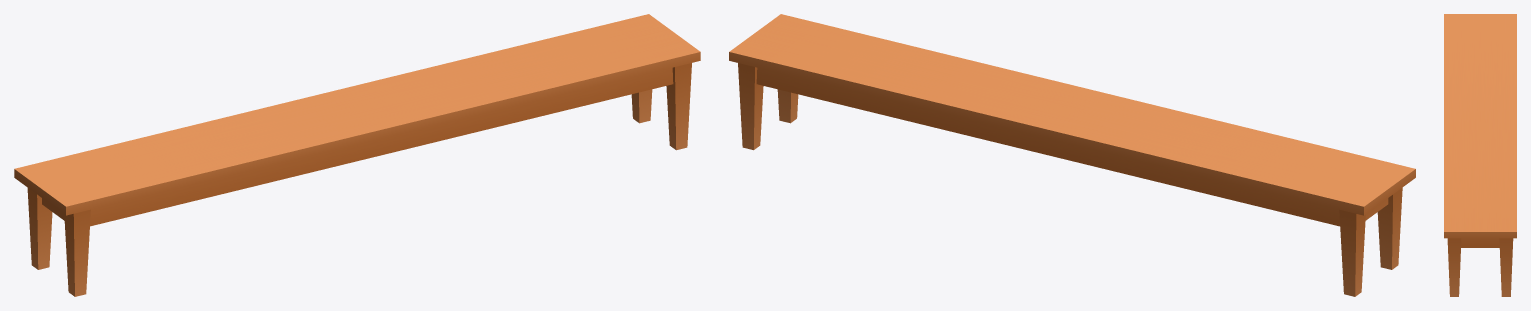
The model's file is Prop_LongTable.fbx.
The picture shows the model from 3 angles, left to right: view 1: azimuth 30°, elevation 25°; view 2: azimuth 150°, elevation 25°; view 3: azimuth 270°, elevation 25°; orthographic projection. The views are drawn at different scales.
Visible parts, largest first — view 1: Prop_LongTable; view 2: Prop_LongTable; view 3: Prop_LongTable.
Part boxes in pixels (x1,y1,x2,y2): Prop_LongTable: [14, 14, 700, 296]; Prop_LongTable: [729, 14, 1415, 296]; Prop_LongTable: [1444, 14, 1516, 296].
Bounding box in the file's own units: 1415 × 206 × 200.
